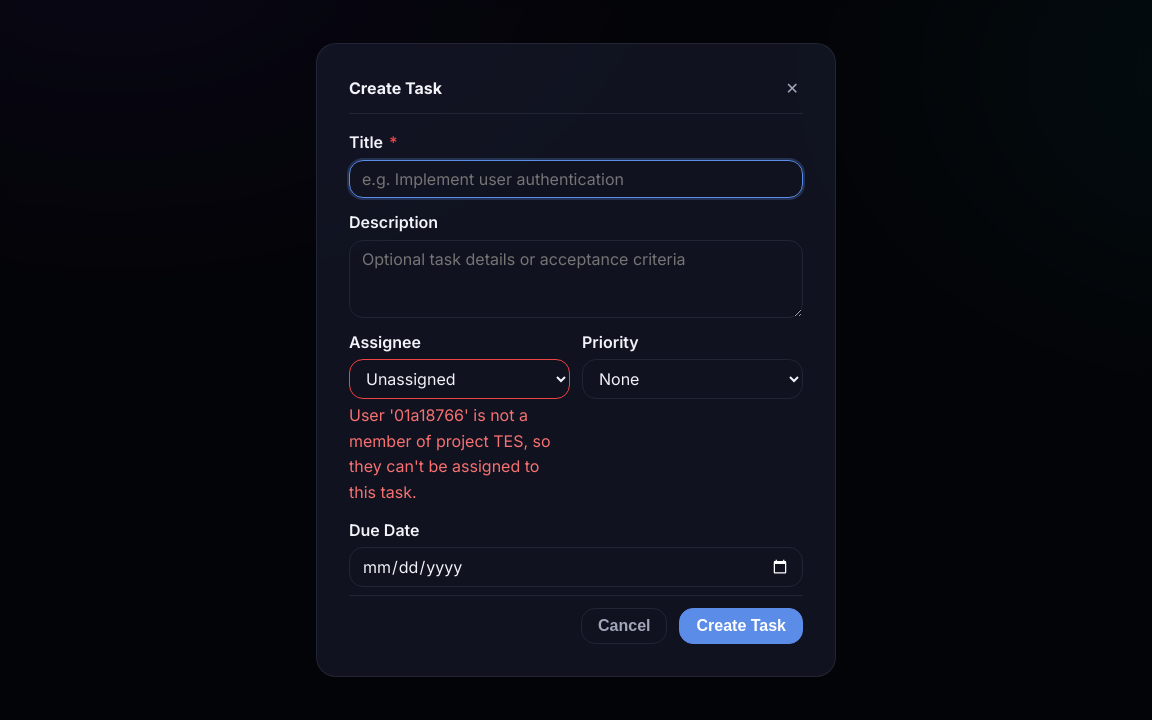
Scenario: CreateTaskForm Component › shows server reason under assignee when assignee is not in project, disappears when fixed
The image size is (1152, 720).
Check: the text "User '01a18766' is not a member of project TES, so they can't be assigned to this task." is shown, box top-left (349, 405), bottom-right (551, 502)
Note: Change assignee to fix error
Select "admin@local.test" in the dropdown labelled "Assignee" at coordinates (460, 379), box top-left (349, 359), bottom-right (570, 399)
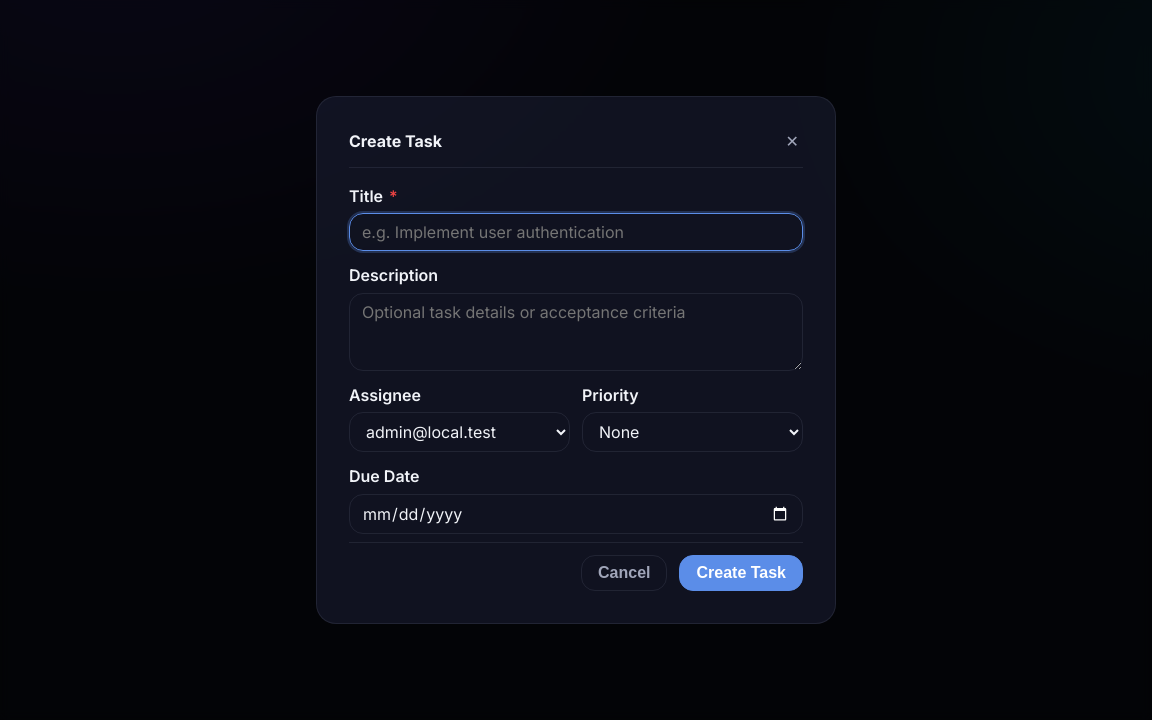
Check: the text "User '01a18766' is not a member of project TES, so they can't be assigned to this task." is gone
